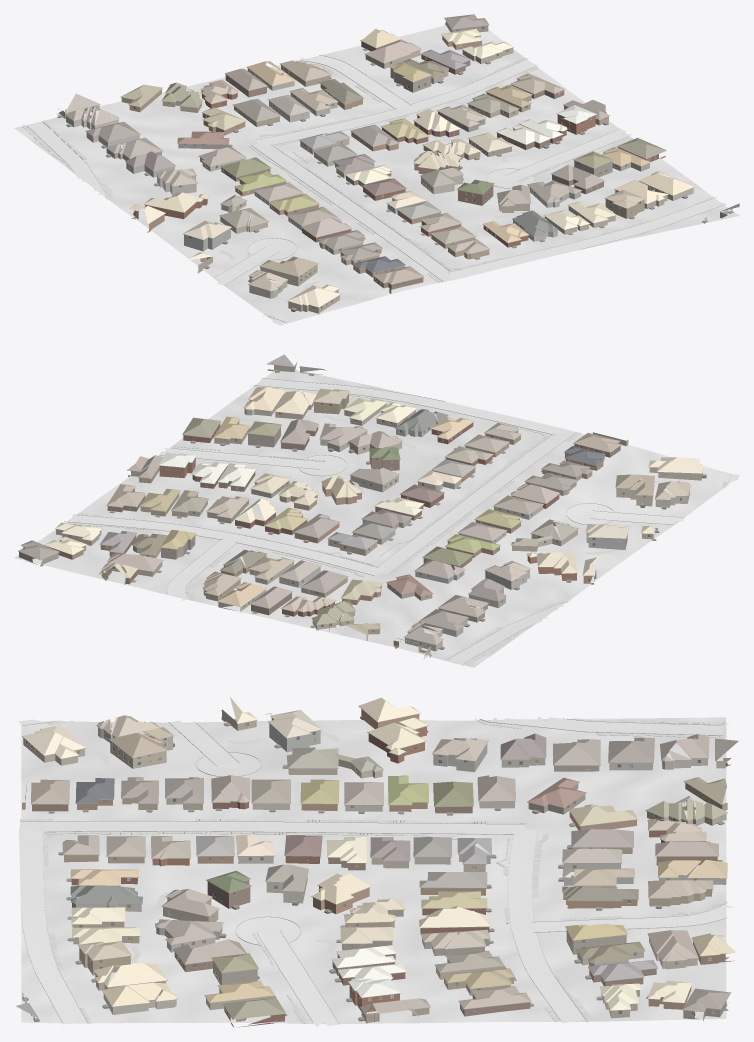
3 views of the same model, one above another, from view 1: azimuth 30°, elevation 25°; view 2: azimuth 150°, elevation 25°; view 3: azimuth 270°, elevation 25° (orthographic). The views are drawn at different scales.
Parts seen in each view (by area): view 1: ground, roof, concrete, wall, detail, wall_stucco, walk, curb, wall_stone, glass; view 2: ground, roof, concrete, wall, detail, wall_stucco, walk, curb, wall_stone, glass; view 3: ground, roof, concrete, wall, wall_stucco, detail, walk, curb, wall_stone, glass.
Boxes of the visible parts, x1,y1,x2,y2 form: ground: (14,25,739,325); roof: (65,14,739,307); concrete: (27,55,724,285); wall: (106,21,727,293); detail: (57,18,733,311); wall_stucco: (58,50,693,314); walk: (22,57,714,317); curb: (23,55,725,322); wall_stone: (86,101,557,298); glass: (85,26,663,308); ground: (14,370,732,667); roof: (18,354,703,644); concrete: (70,378,683,663); wall: (19,362,656,640); detail: (18,364,706,657); wall_stucco: (110,393,702,658); walk: (65,385,727,666); curb: (64,378,731,664); wall_stone: (279,366,689,636); glass: (52,399,682,644); ground: (21,717,726,1024); roof: (16,697,738,1019); concrete: (19,716,733,1026); wall: (22,709,734,1027); wall_stucco: (23,718,726,1014); detail: (22,706,730,1021); walk: (20,718,729,1023); curb: (20,718,727,1024); wall_stone: (24,727,652,1003); glass: (26,731,700,1015).
Size of the model in its own units: 262 by 12.11 by 257.
